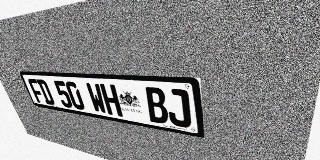0: (64, 81, 86, 110)
5: (53, 80, 74, 108)
B: (144, 87, 169, 125)
D: (36, 79, 55, 105)
F: (27, 79, 46, 104)
H: (99, 84, 123, 117)
J: (165, 88, 192, 128)
W: (85, 83, 108, 114)
